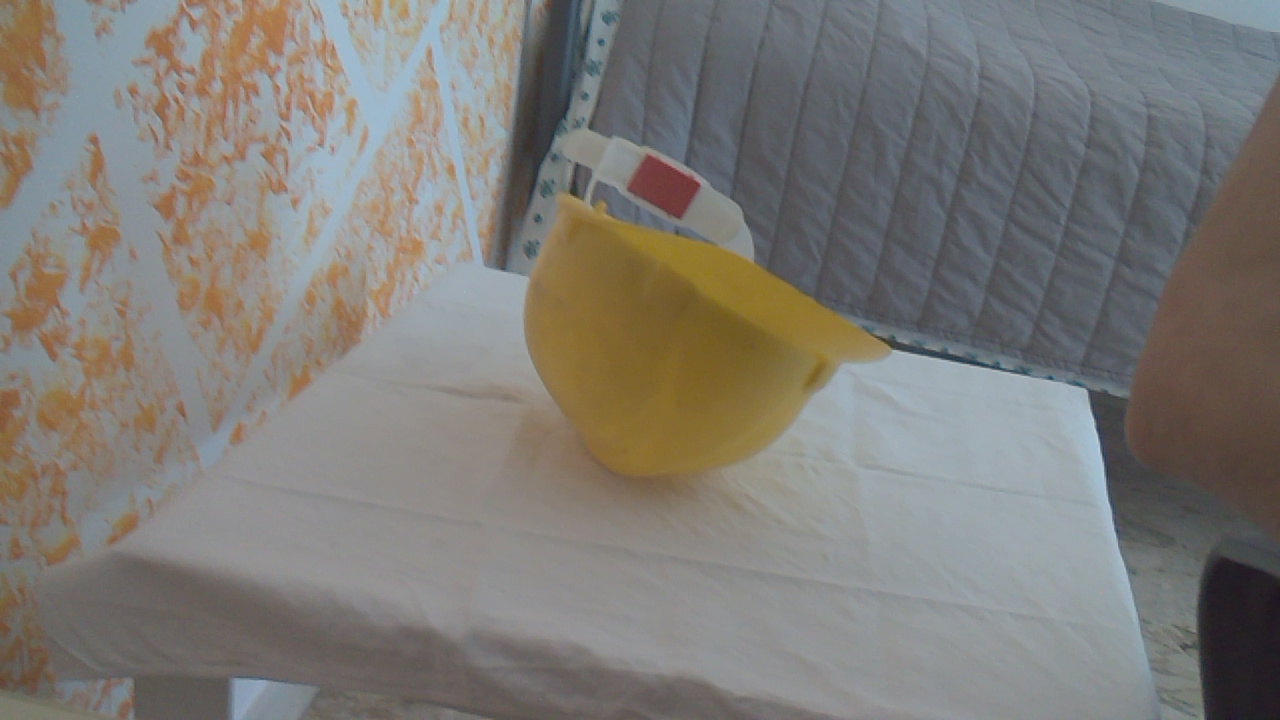Helmet: (515, 121, 900, 501)
